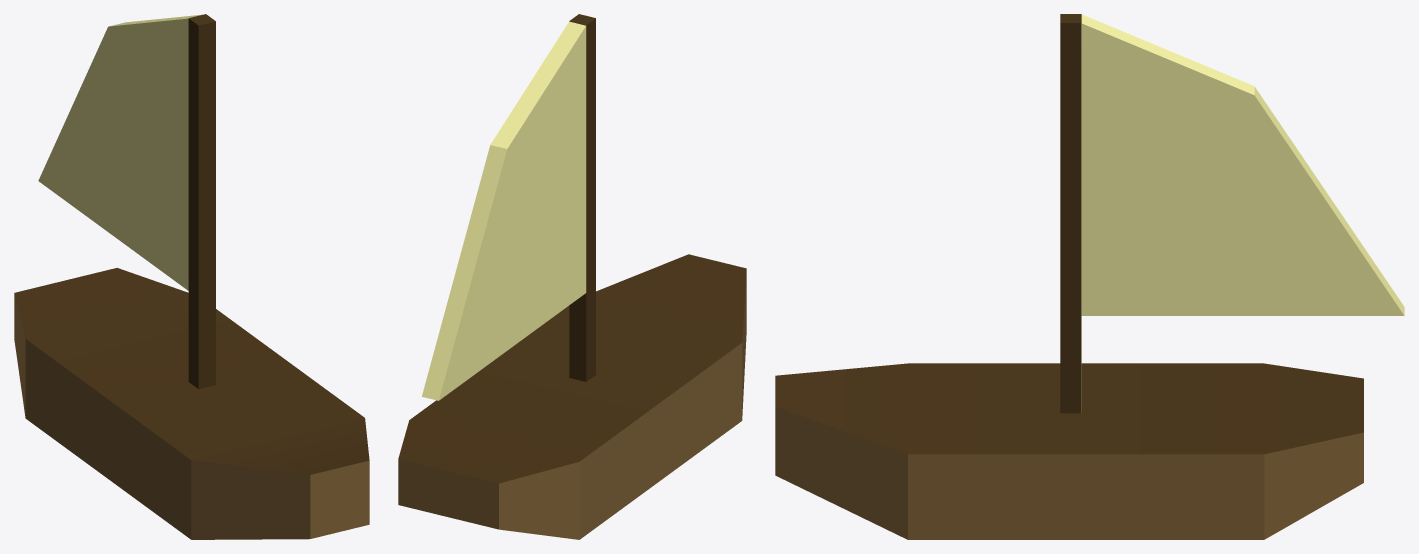
File: Boat.fbx
3 renders of one model, left to right at view 1: azimuth 30°, elevation 25°; view 2: azimuth 150°, elevation 25°; view 3: azimuth 270°, elevation 25°, orthographic. The views are drawn at different scales.
Visible parts, largest first — view 1: Cube; view 2: Cube; view 3: Cube.
Boxes of the visible parts, left/top/right/bottom form: Cube: left=14, top=14, right=369, bottom=539; Cube: left=398, top=14, right=746, bottom=539; Cube: left=775, top=14, right=1404, bottom=539.
Size of the model in its own units: 4000 by 9762 by 11694.
